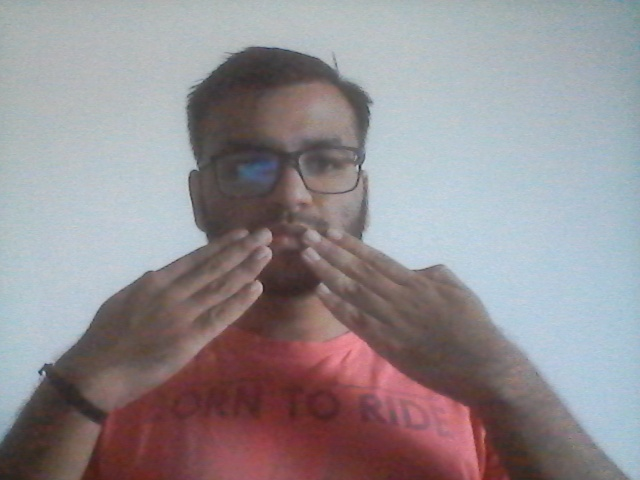Yes: (57, 211, 541, 412)
